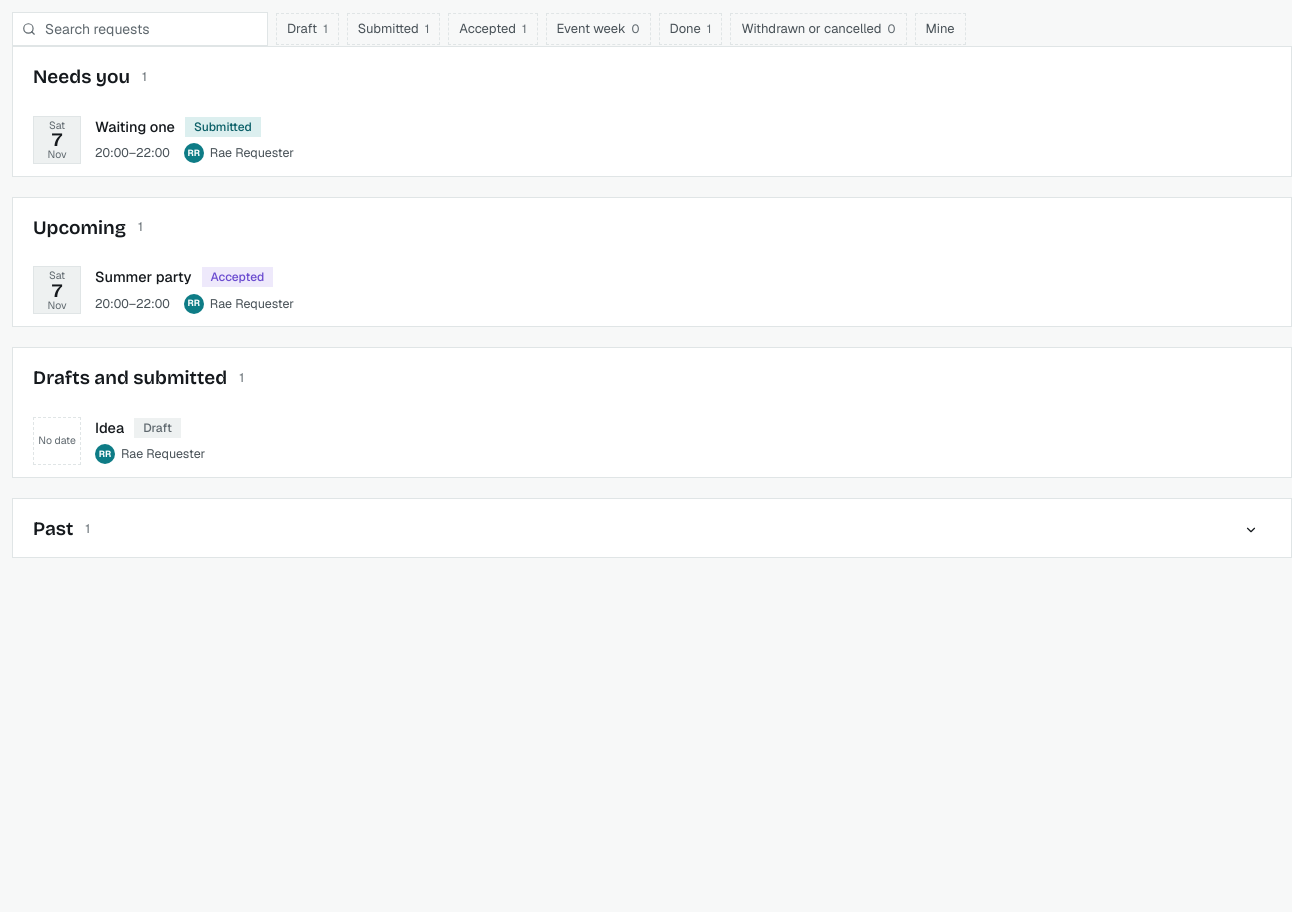
Test: RequestList › keeps the past section closed by default
Check: the text "Old gig" is not shown
Click the button named "Show past requests".
click(1251, 530)  # box top-left (1231, 514), bottom-right (1271, 544)
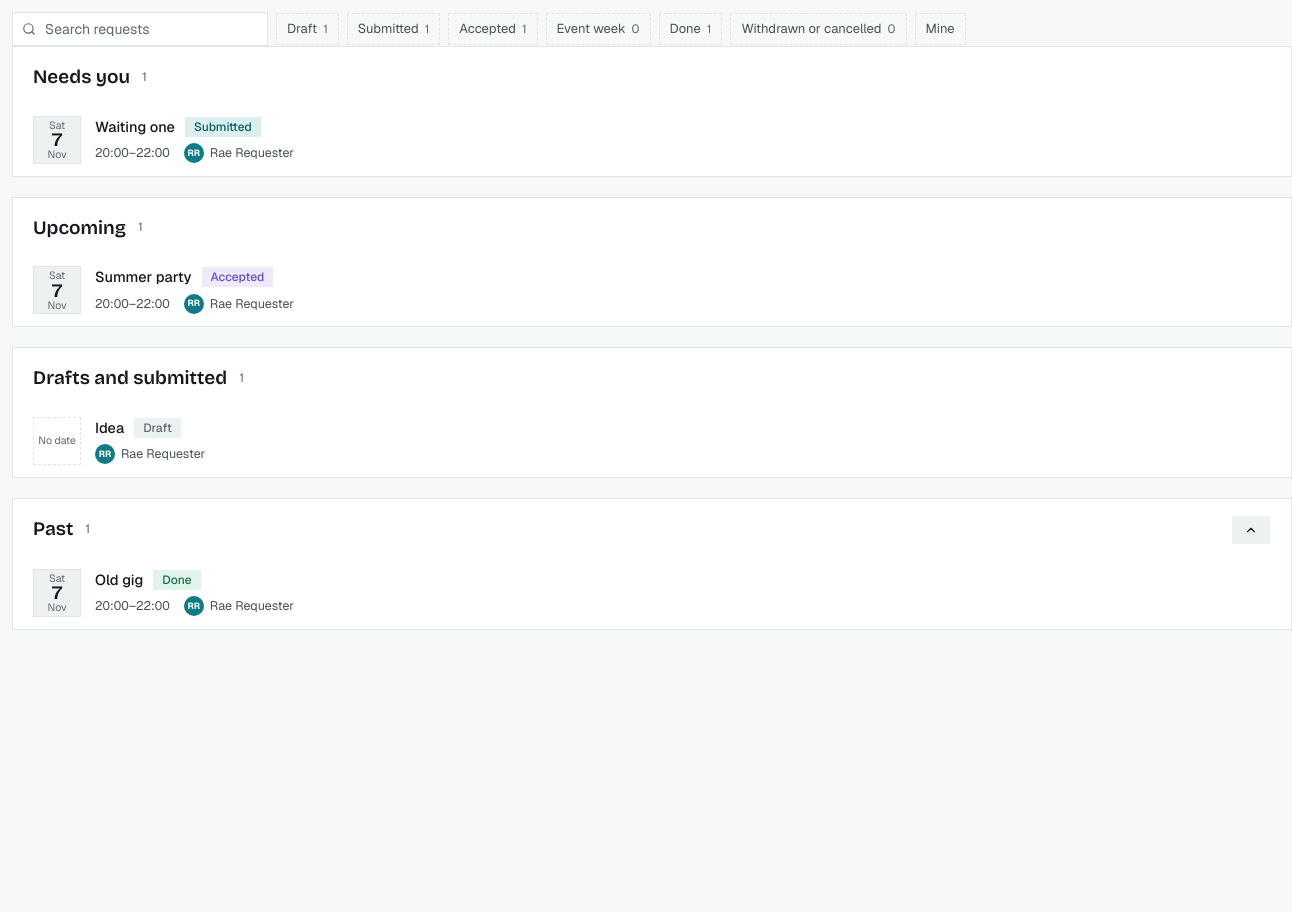
Check: the link "Old gig" is shown, box top-left (95, 569), bottom-right (143, 590)
